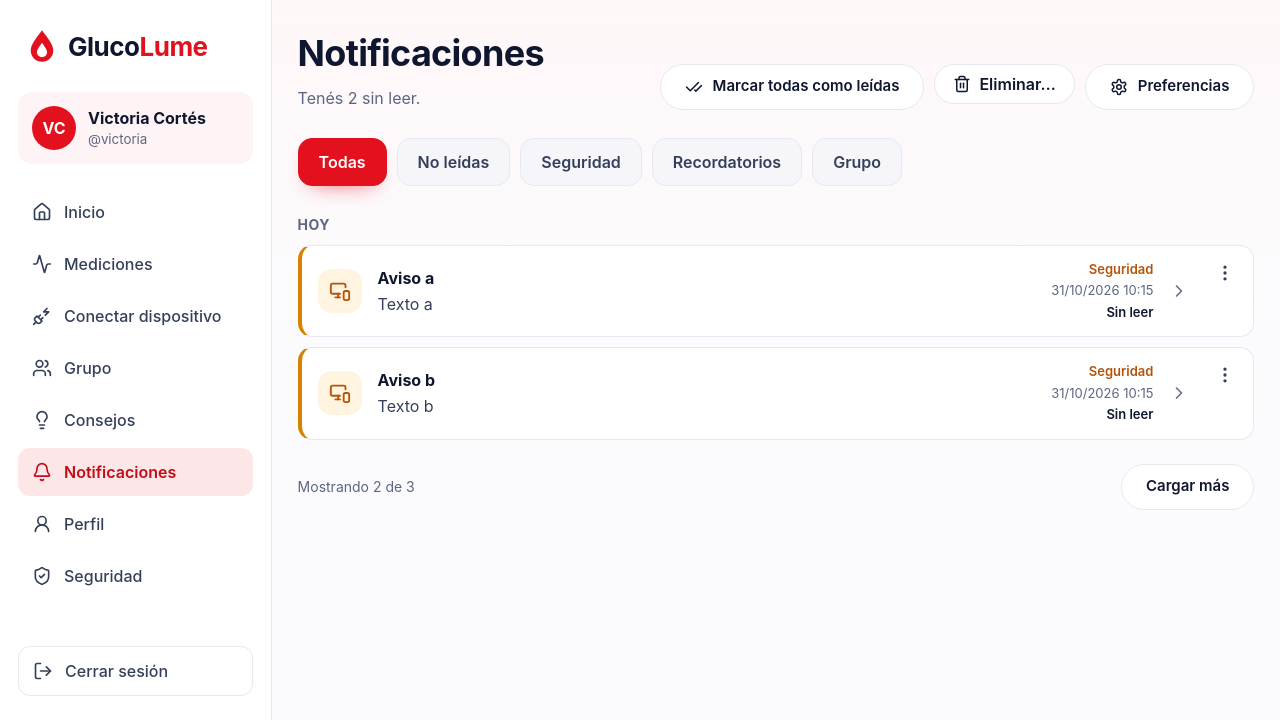
it: Bandeja de notificaciones › carga más avisos con el desplazamiento y no repite los ya mostrados
The image size is (1280, 720).
Expected: the text "Mostrando 2 de 3" is shown, [298,476,415,497]
Click the button "Cargar más".
click(1188, 487)  # box [1121,464,1254,510]
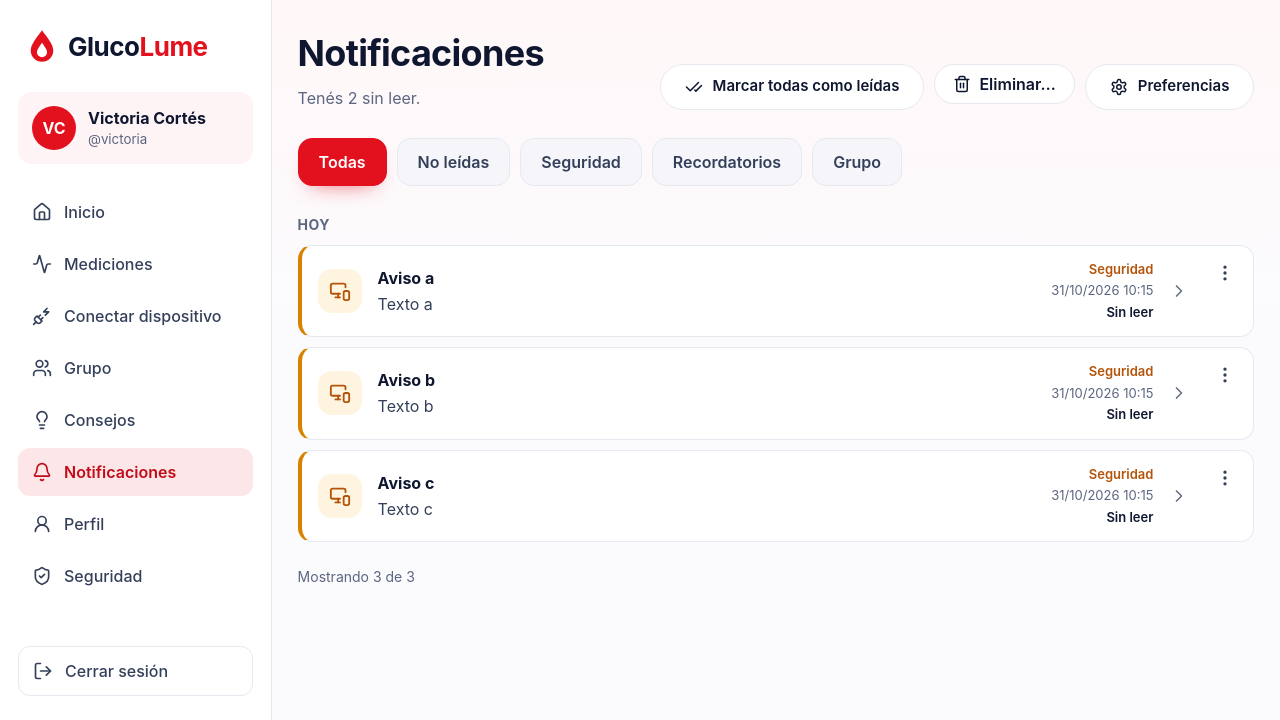
Expected: the text "Mostrando 3 de 3" is shown, [298,566,415,587]
Expected: the number of buttons "Aviso a Texto a Seguridad 31/10/2026 10:15 Sin leer" is 3, [298,245,1254,337]; [298,347,1254,440]; [298,450,1254,542]
Expected: the button "Cargar más" is gone
